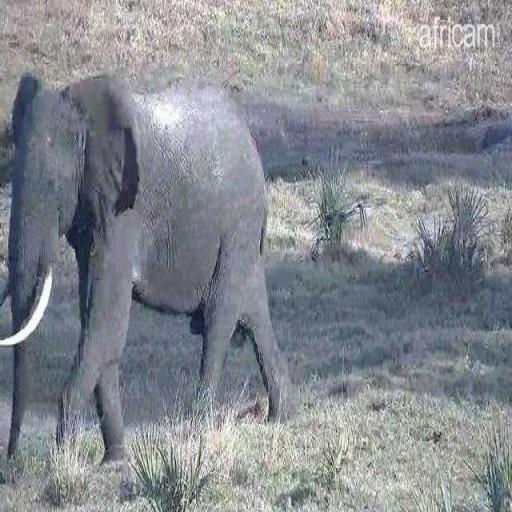Elephant: (0, 68, 292, 468)
